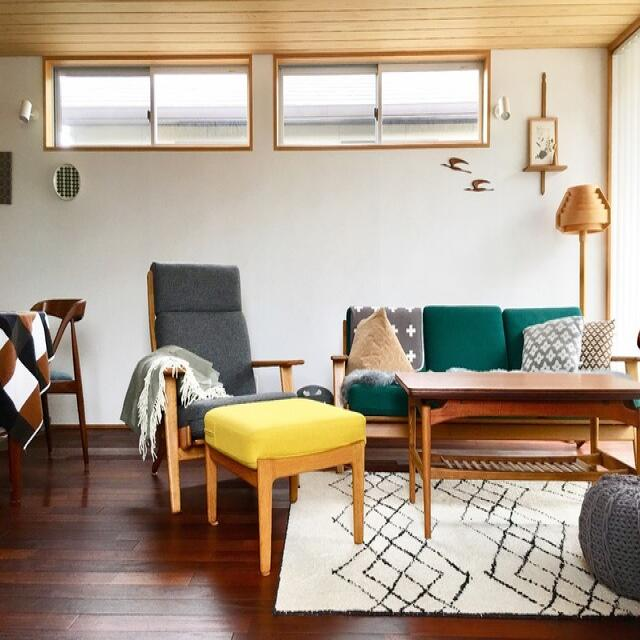vintage chair: (143, 254, 297, 396), (35, 287, 96, 471)
vintage desk: (391, 368, 640, 493)
